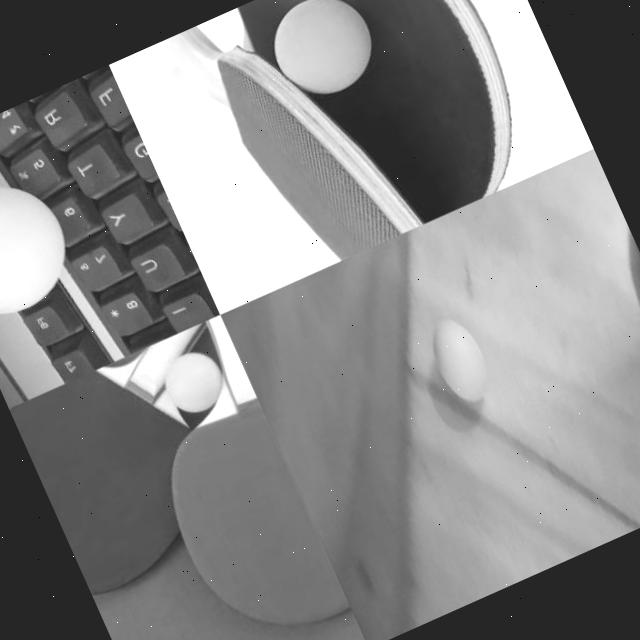ping-pong-ball: (0, 166, 83, 331), (258, 0, 385, 105), (420, 306, 500, 409), (157, 344, 231, 417)
